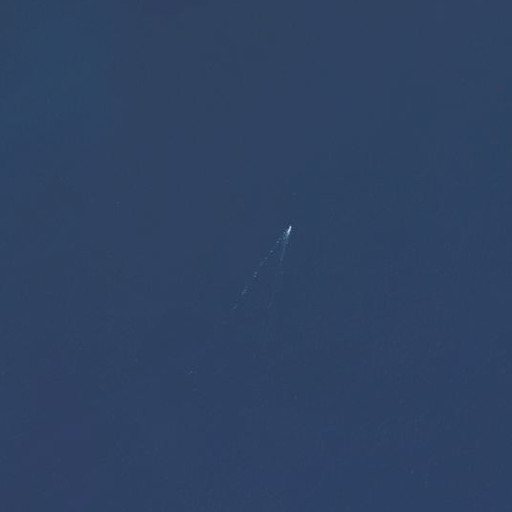ship: (284, 222, 294, 239)
